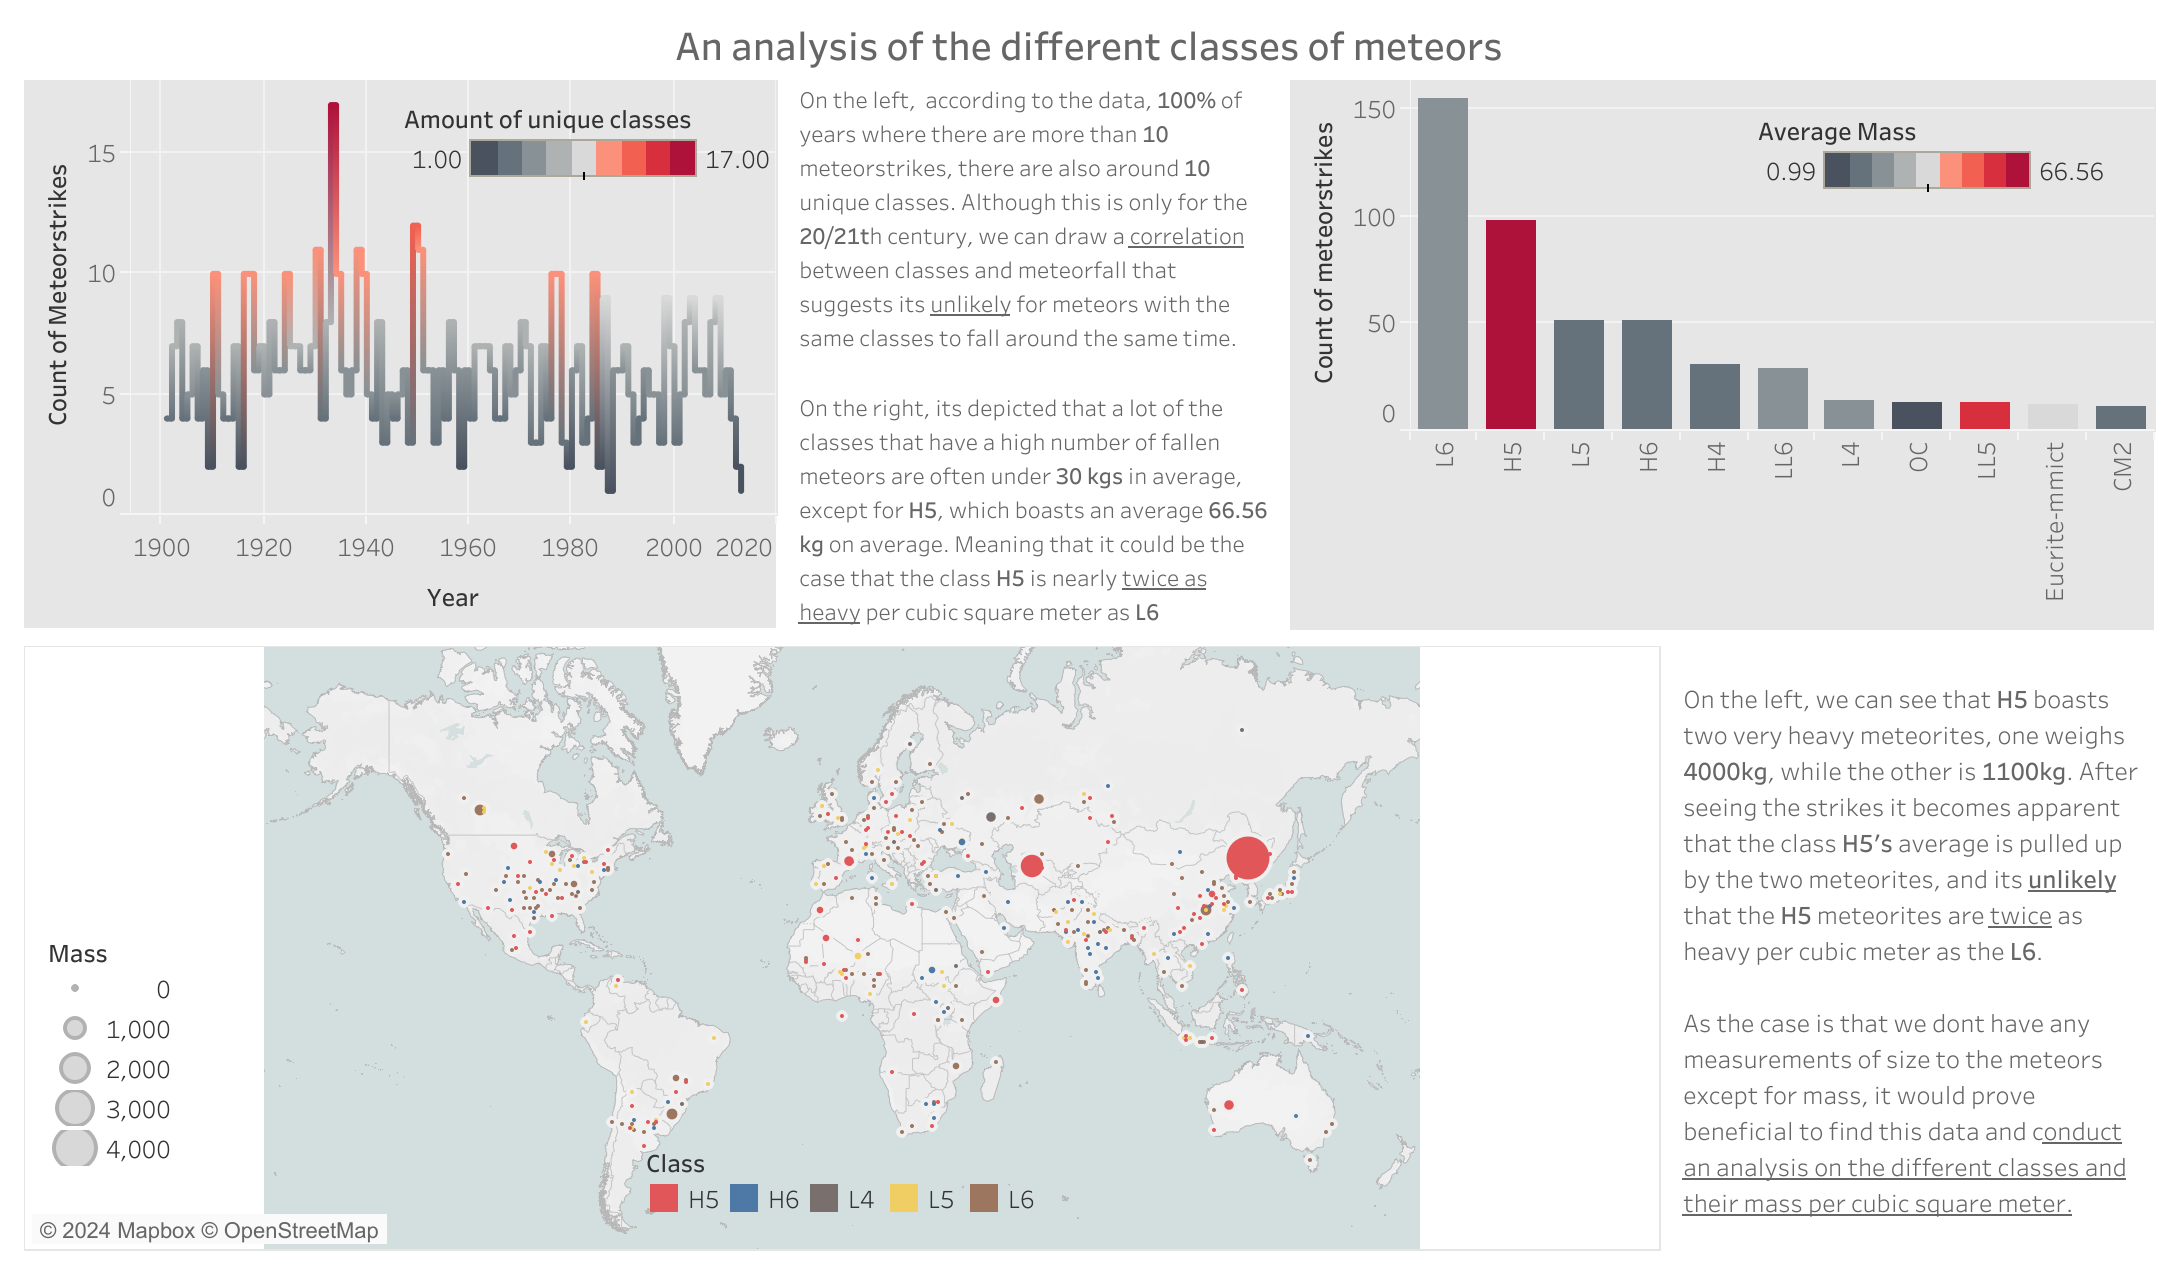

The page's visual inventory and layout, read from the dashboard file:
{"tool":"tableau","page":{"name":"Dashboard","canvas":[1000,1000],"units":"permille","ordinal":0},"visuals":[{"type":"text","box":[9,10.8,982.1,43.4]},{"type":"worksheet","title":"Amount of meteorstrikes","mark":"Line","rows":["year"],"cols":["year"],"box":[9,54.3,352.7,445.1]},{"type":"text","box":[361.6,54.3,226.5,445.1]},{"type":"worksheet","title":"Class ","mark":"Automatic","rows":["recclass"],"cols":["recclass"],"box":[588.1,54.3,402.9,445.1]},{"type":"legend","title":"Amount of meteorstrikes","param":"[federated.0qhkbyf15vls8w15iyt3c0xxi3l7].[cnt:recclass:qk]","box":[185.7,71.9,172.3,74.6]},{"type":"legend","title":"Class ","param":"[federated.0qhkbyf15vls8w15iyt3c0xxi3l7].[avg:mass:qk]","box":[807.6,81.4,163.3,103.1]},{"type":"worksheet","title":"Top 5 classes","mark":"Automatic","rows":["reclat"],"cols":["reclong"],"box":[9,499.3,756.7,489.8]},{"type":"text","box":[765.6,499.3,225.4,489.8]},{"type":"legend","title":"Top 5 classes","param":"[federated.0qhkbyf15vls8w15iyt3c0xxi3l7].[sum:mass:qk]","box":[21.2,728.6,89.5,202.2]},{"type":"legend","title":"Top 5 classes","param":"[federated.0qhkbyf15vls8w15iyt3c0xxi3l7].[none:recclass:nk]","box":[295.3,894.2,238.3,70.6]}]}

Visuals, with their boxes on the dashboard's canvas, which has no fixed pixel size, in thousandths of its width and height (x1, y1, x2, y2). These are canvas units, not pixel positions in the 2176x1274 screenshot, which may show the page scaled, cropped or inside an application window:
text: (9,11,991,54)
"Amount of meteorstrikes" worksheet (Line marks): (9,54,362,499)
text: (362,54,588,499)
"Class " worksheet: (588,54,991,499)
"Amount of meteorstrikes" legend: (186,72,358,146)
"Class " legend: (808,81,971,184)
"Top 5 classes" worksheet: (9,499,766,989)
text: (766,499,991,989)
"Top 5 classes" legend: (21,729,111,931)
"Top 5 classes" legend: (295,894,534,965)
